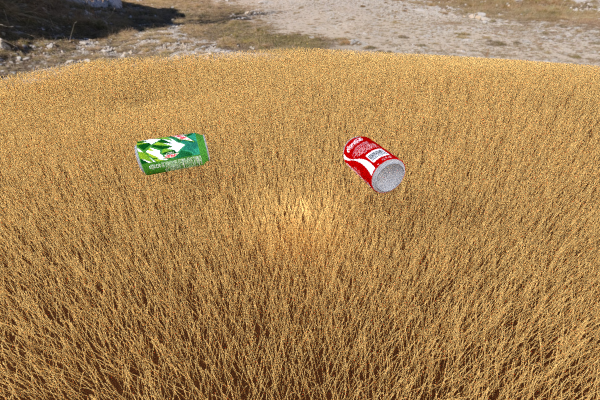bottle: (182, 88, 272, 126)
can: (343, 136, 405, 193), (134, 132, 210, 175)
